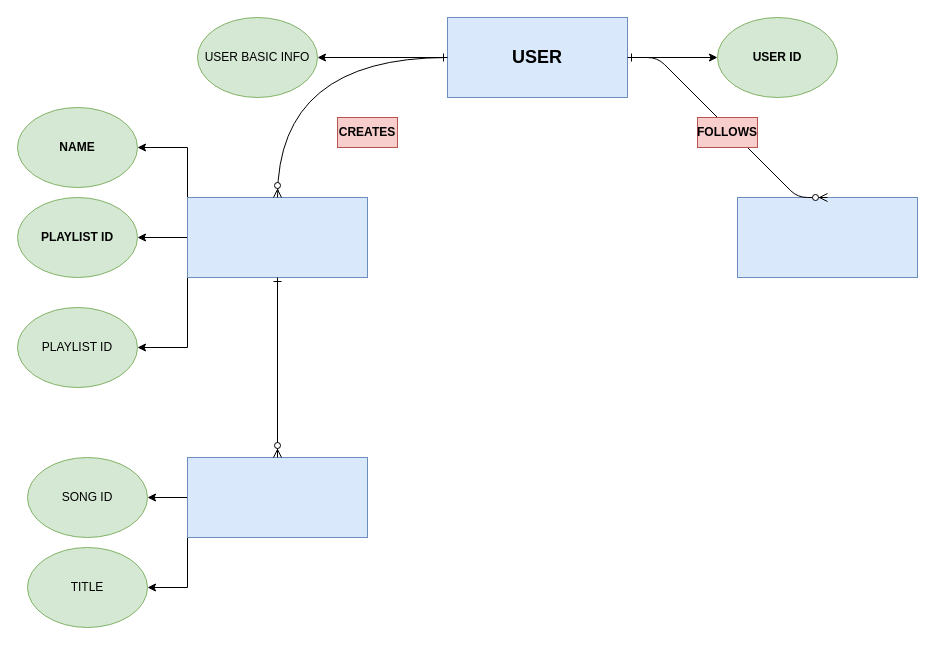
This 935x645 diagram has some shape labels left out. Here are the shapes that lost their labels. From the top down, the centre of each, then its label:
At (277,237): "PLAYLISTS".
At (827,237): "ARTIST".
At (277,497): "SONGS".
